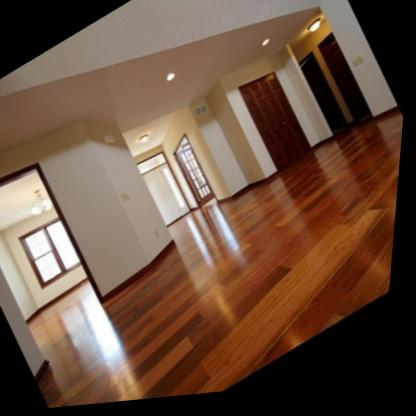Wooden floor: (36, 115, 406, 410)
